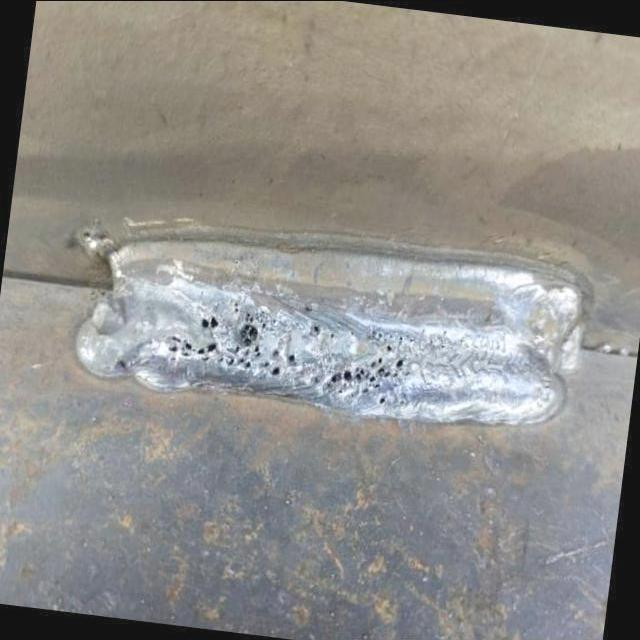defect: (161, 301, 301, 381), (320, 338, 412, 408), (308, 320, 329, 342)
